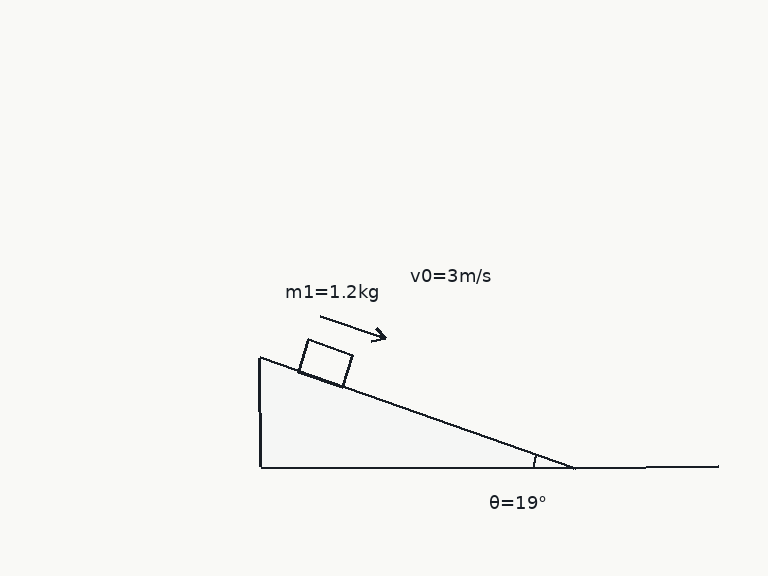block: (296, 338, 355, 389)
ramp: (258, 357, 576, 469)
